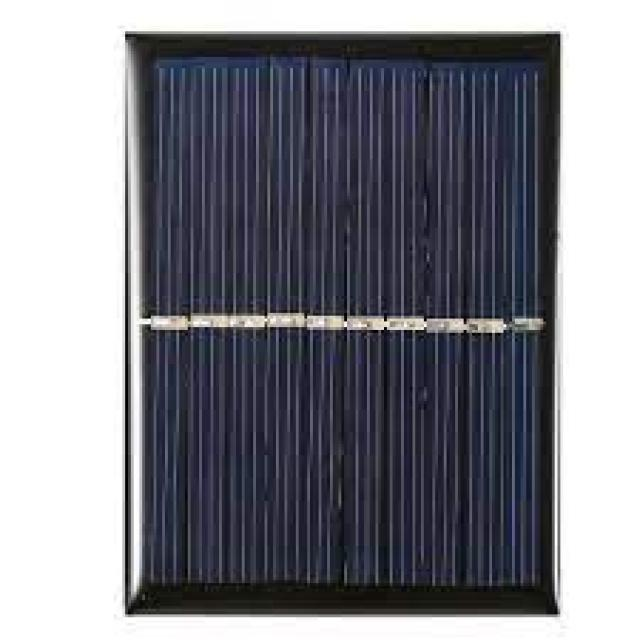no faulty: (139, 54, 563, 594)
